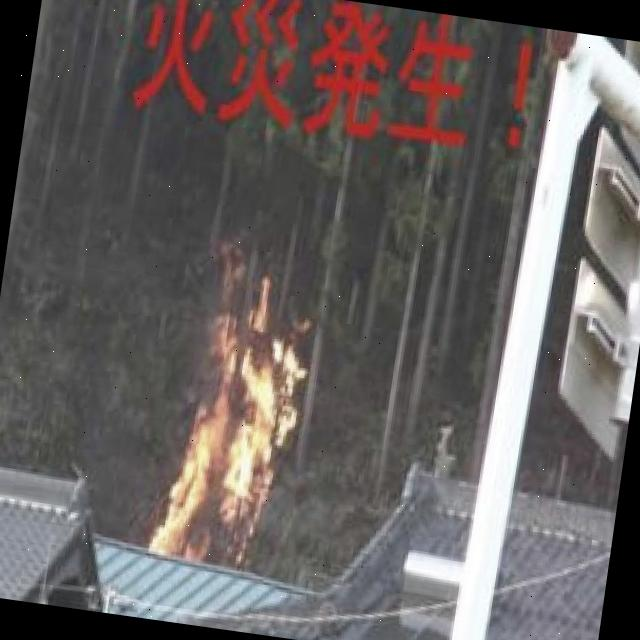fire: (157, 255, 320, 582)
